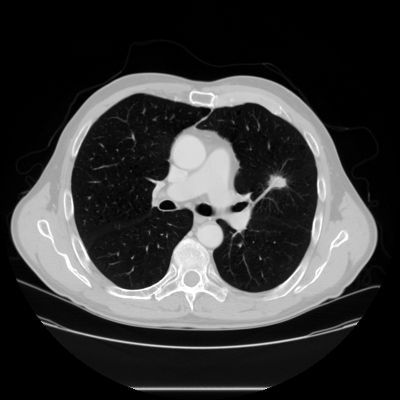nodule: (268, 173, 288, 193)
